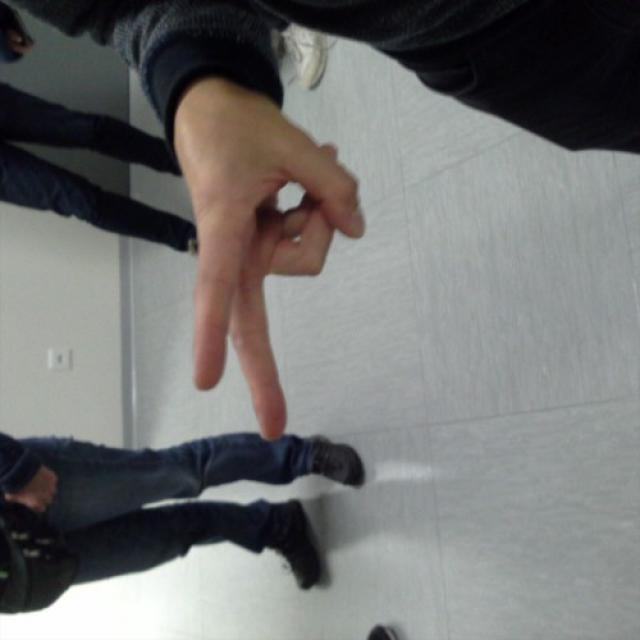scissors: (172, 143, 370, 444)
